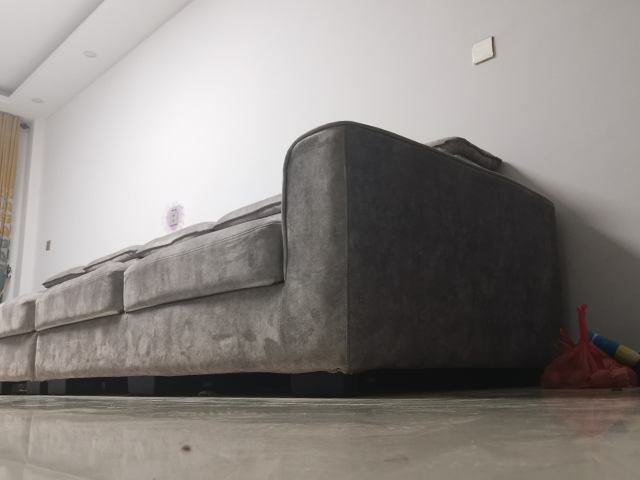sofa: (1, 117, 568, 401)
